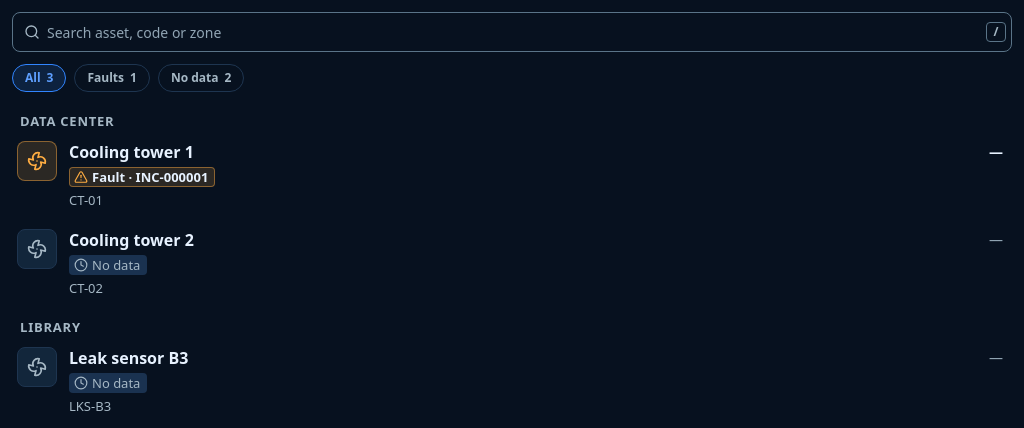
Scenario: AssetFeed › search and zone › matches the zone name, folded for case
Type "DATA center" into the search field named "Search assets" at point(512, 32), box x1=12 y1=12 x2=1012 y2=52
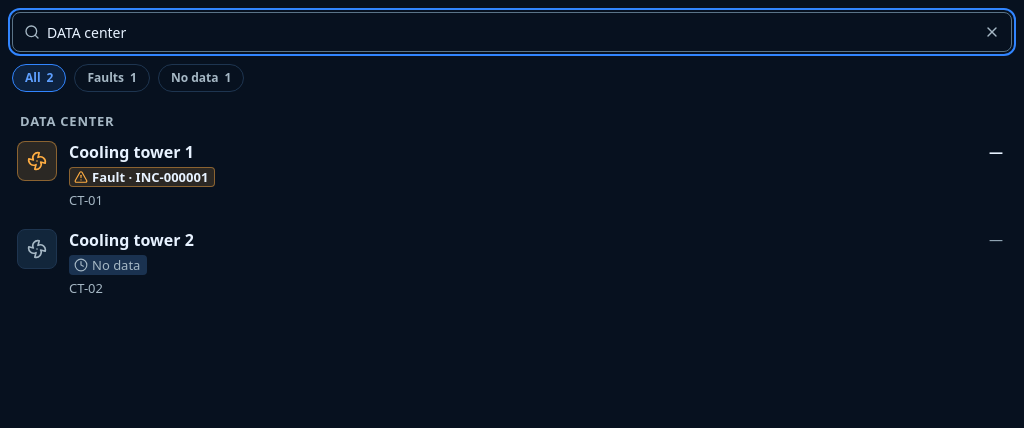
Result: the tab "All 2" is shown at x1=12 y1=64 x2=66 y2=92
